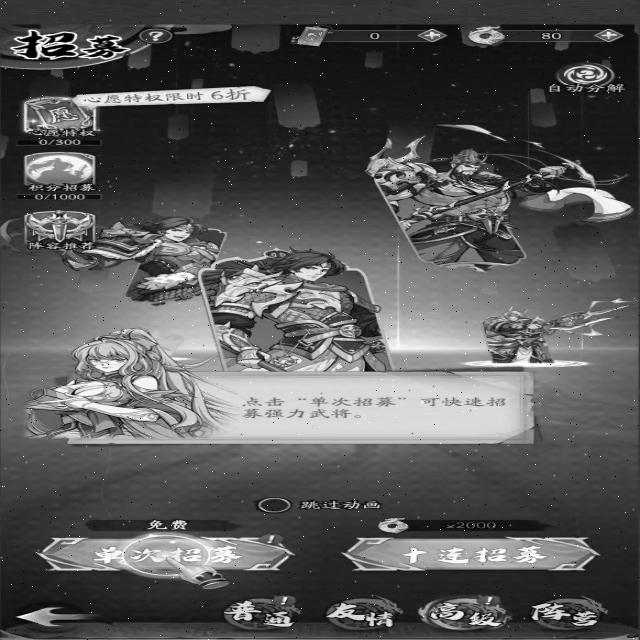hint-guide: (13, 331, 559, 451), (34, 530, 298, 583)
hint-reddot: (470, 592, 507, 609), (254, 532, 285, 547), (269, 594, 295, 606)
operation-back: (8, 602, 102, 634)
operation-singleRecruit: (37, 536, 288, 575)
operation-tenRecruit: (337, 533, 602, 574)
